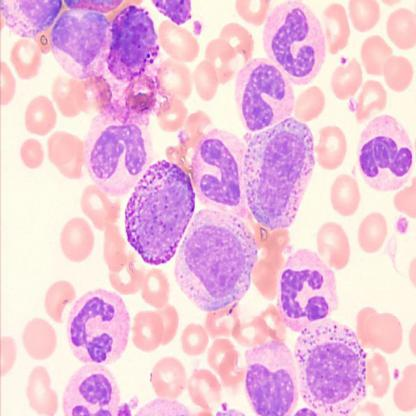Band Neutrophil: (189, 126, 262, 226), (80, 112, 158, 197), (272, 244, 342, 334), (261, 0, 329, 86), (63, 287, 135, 368), (233, 54, 297, 137), (353, 112, 415, 195)
